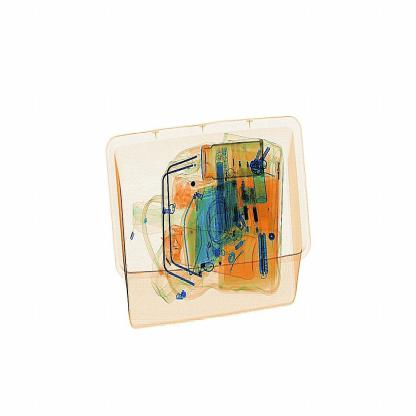scissors: (253, 229, 279, 282)
